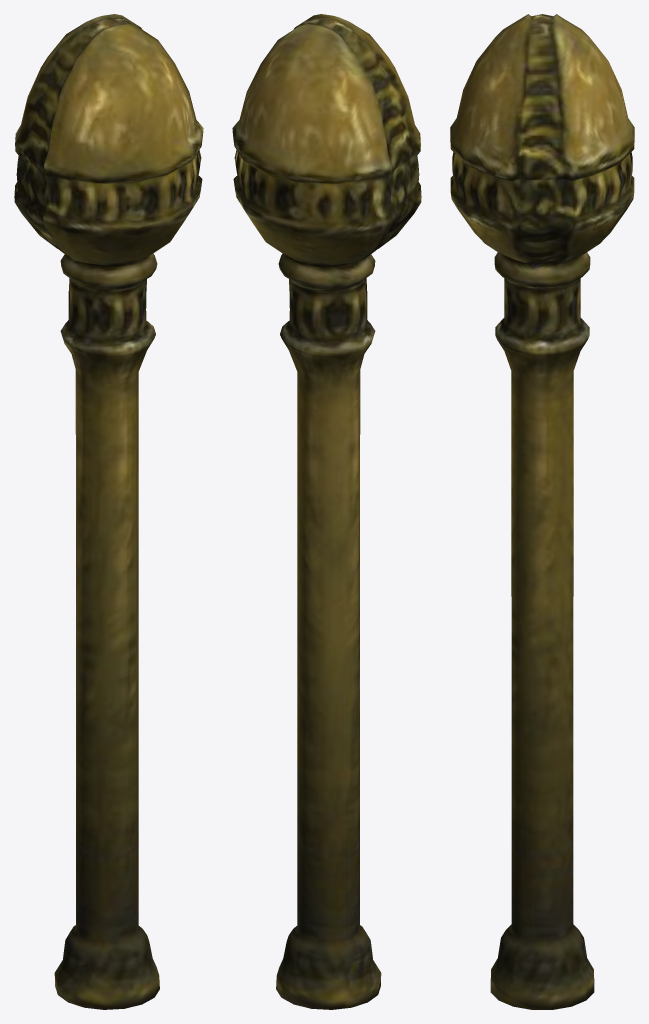
File: weapon-tarnished-wand.glb
3 views of the same model, side by side, from view 1: azimuth 30°, elevation 25°; view 2: azimuth 150°, elevation 25°; view 3: azimuth 270°, elevation 25° (orthographic).
Visible parts, largest first — view 1: wandK_MDL_q; view 2: wandK_MDL_q; view 3: wandK_MDL_q.
Part boxes in pixels (box(x1,y1,x2,y2)): wandK_MDL_q: box(14, 14, 203, 1009); wandK_MDL_q: box(232, 14, 421, 1009); wandK_MDL_q: box(450, 14, 634, 1009).
Size of the model in its own units: 0.2055 by 1.21 by 0.2047.
Materials: 1 (1 with a texture image).
